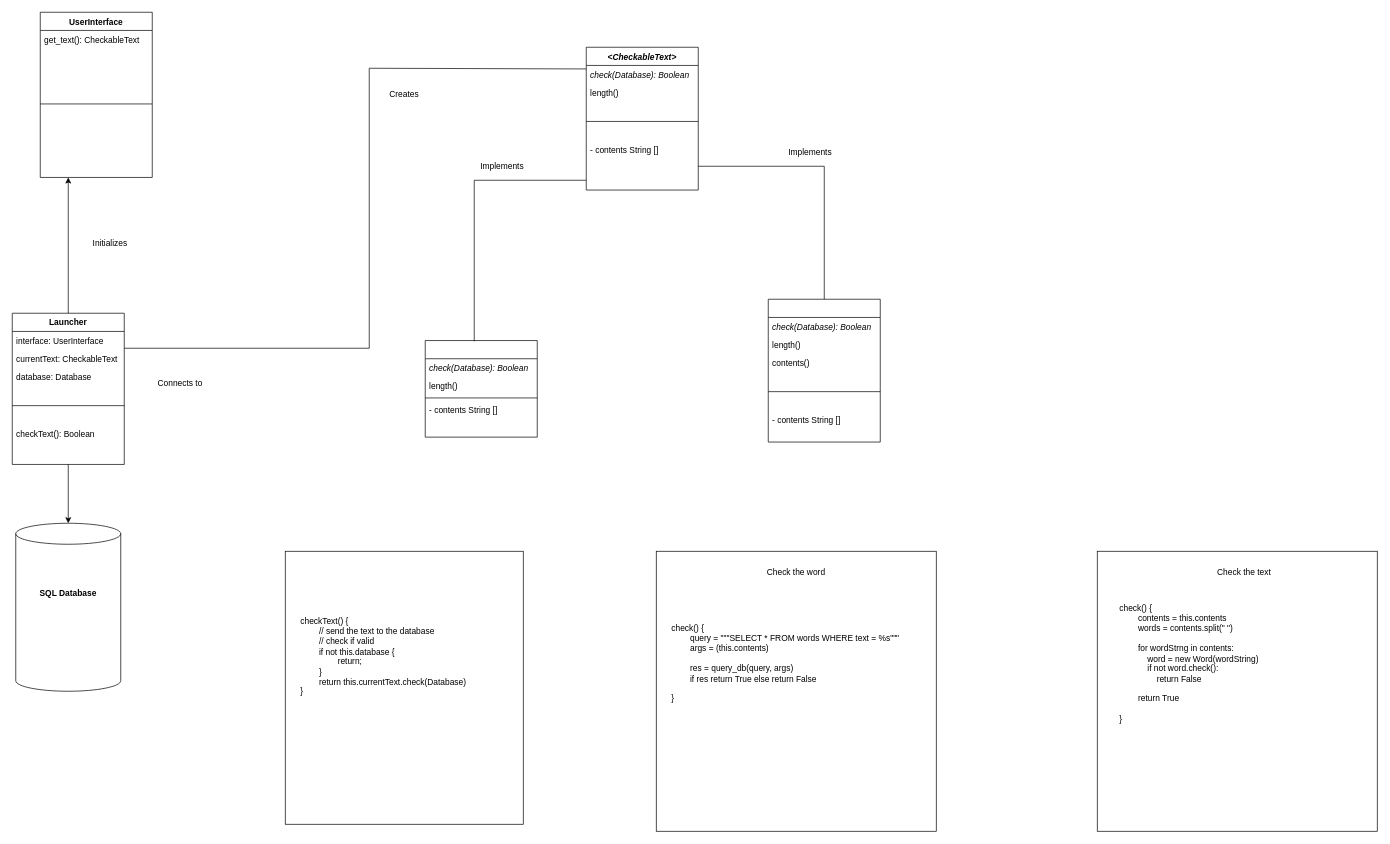
Some shapes in this 1390 by 844 pixel diagram are drawn without their labels. The shapes that lost their labels are listed below. From the top down, each one's box as (x1, y1, x2, y2) in pixels, then its label:
(425, 340, 537, 437): Word
(768, 299, 880, 442): Text
